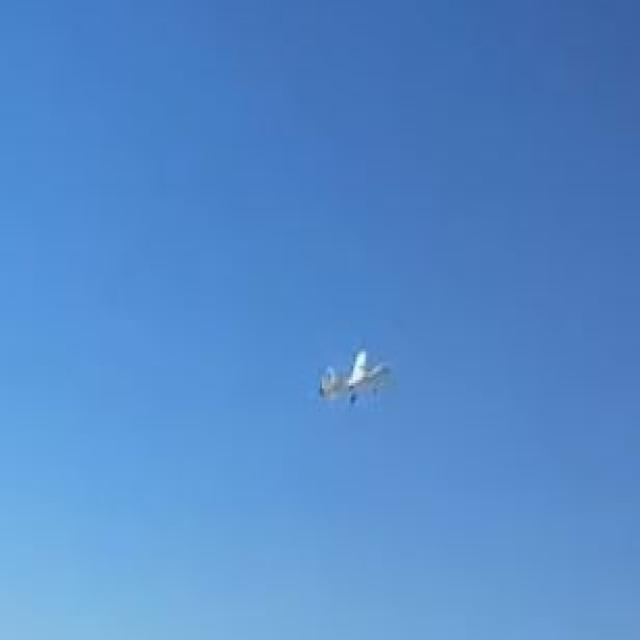iha: (347, 346, 361, 408)
